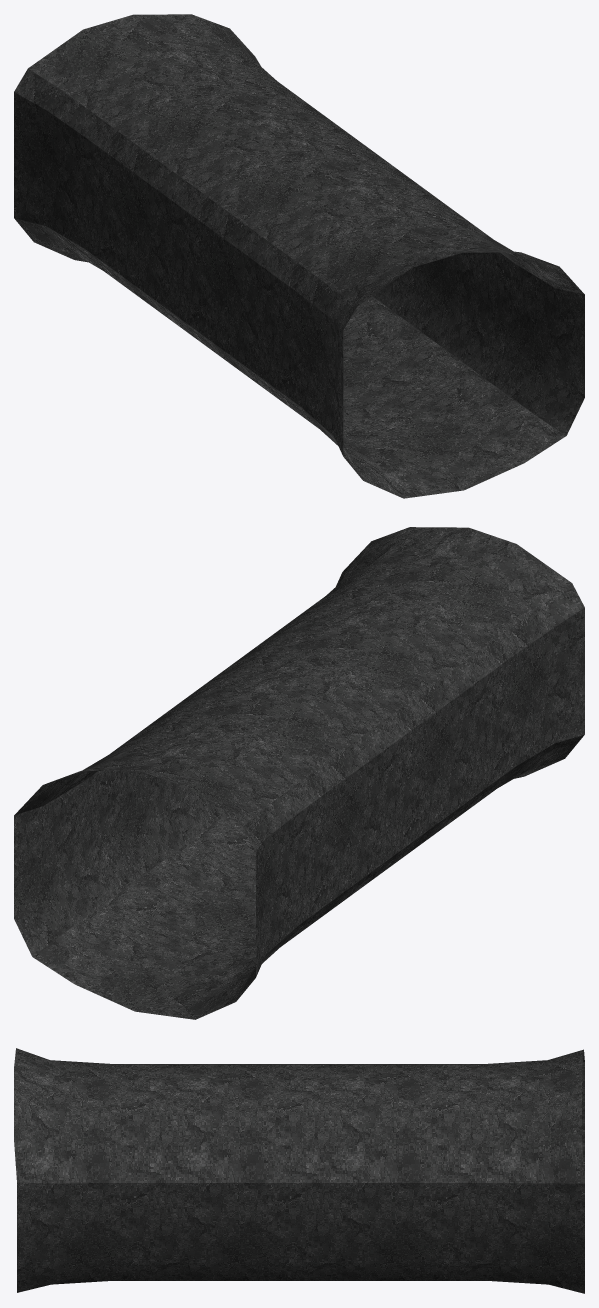
Rendered from CaveHallway1.glb.
3 views of the same model, one above another, from view 1: azimuth 30°, elevation 25°; view 2: azimuth 150°, elevation 25°; view 3: azimuth 270°, elevation 25° (orthographic). The views are drawn at different scales.
Parts seen in each view (by area): view 1: Cube.002; view 2: Cube.002; view 3: Cube.002.
Part boxes in pixels (x1=…): Cube.002: x1=14, y1=14, x2=584, y2=498; Cube.002: x1=14, y1=527, x2=584, y2=1019; Cube.002: x1=14, y1=1048, x2=584, y2=1293.
Bounding box in the file's own units: 7.25 × 6.89 × 17.11.
Materials: 1 (1 with a texture image).
